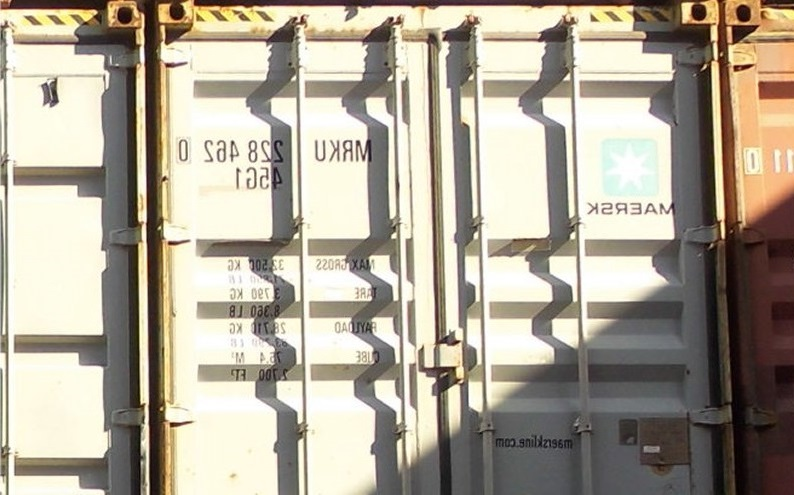container_door: (154, 1, 729, 495)
